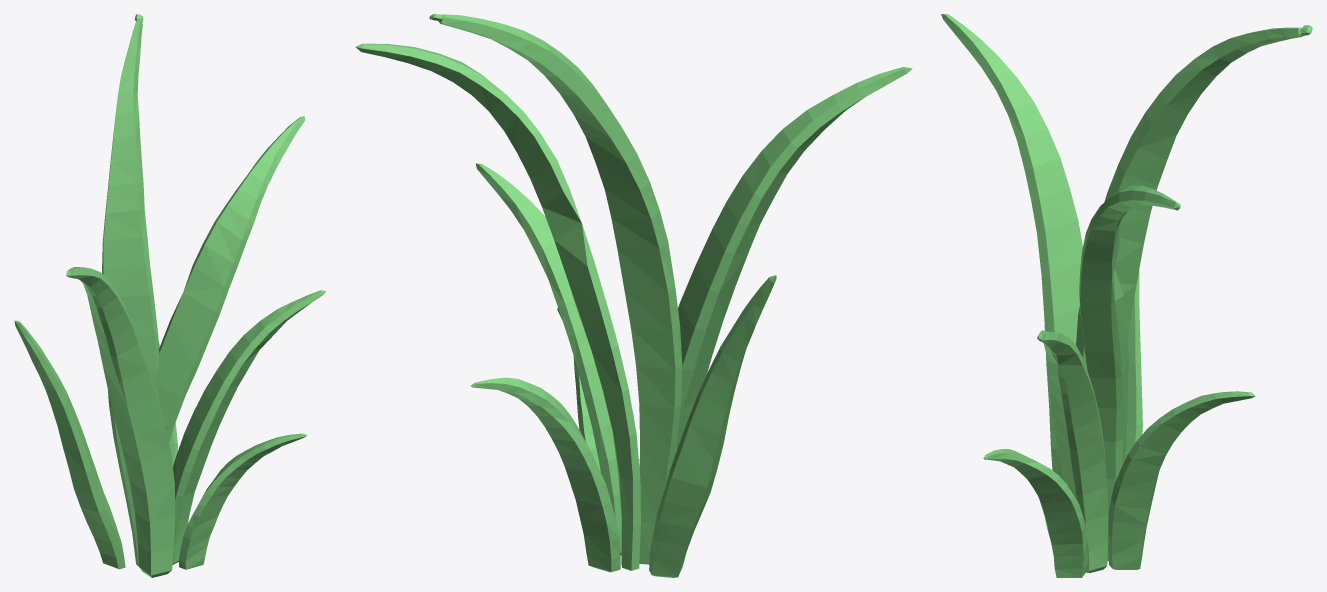
The model's file is crop_mugi2.glb.
3 views of the same model, side by side, from view 1: azimuth 30°, elevation 25°; view 2: azimuth 150°, elevation 25°; view 3: azimuth 270°, elevation 25° (orthographic). The views are drawn at different scales.
Parts seen in each view (by area): view 1: leaf; view 2: leaf; view 3: leaf.
Boxes of the visible parts, x1,y1,x2,y2 form: leaf: (14,14,325,577); leaf: (355,14,912,577); leaf: (941,14,1312,577).
Size of the model in its own units: 0.2476 by 0.3306 by 0.1934.
